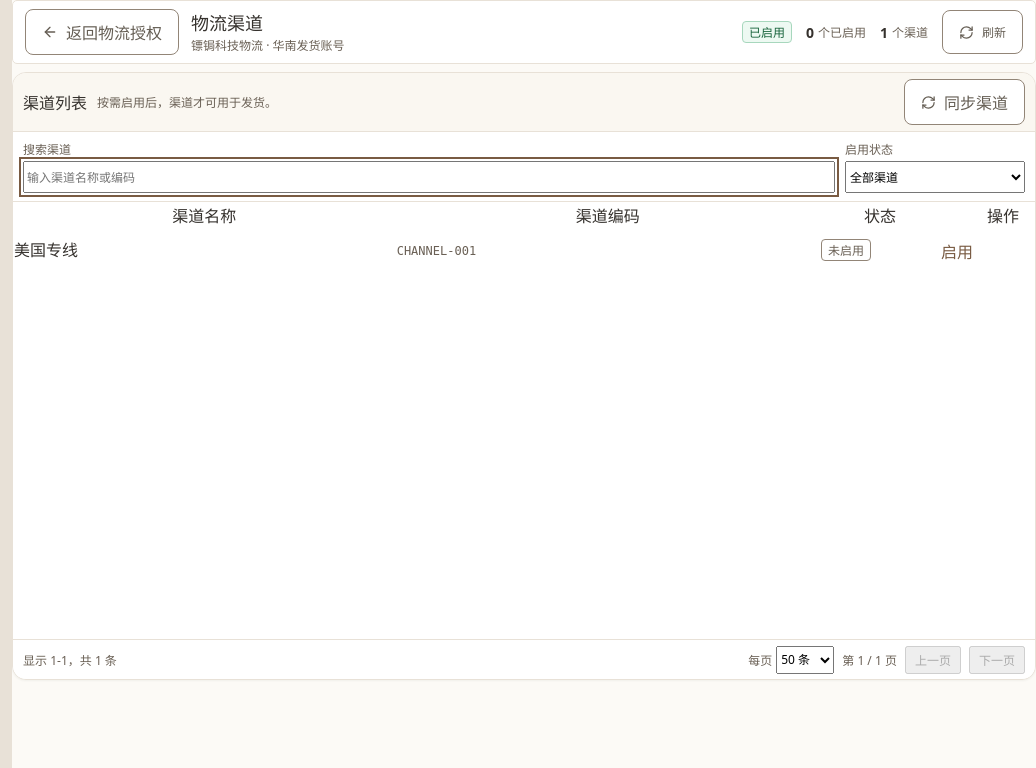
Test: logistics authorization channels workspace › renders as a dedicated page and enables a synced channel
Expected: the heading "物流渠道" is shown, [191, 10, 263, 34]
Click the button "启用".
click(957, 251)  # box [941, 233, 973, 269]
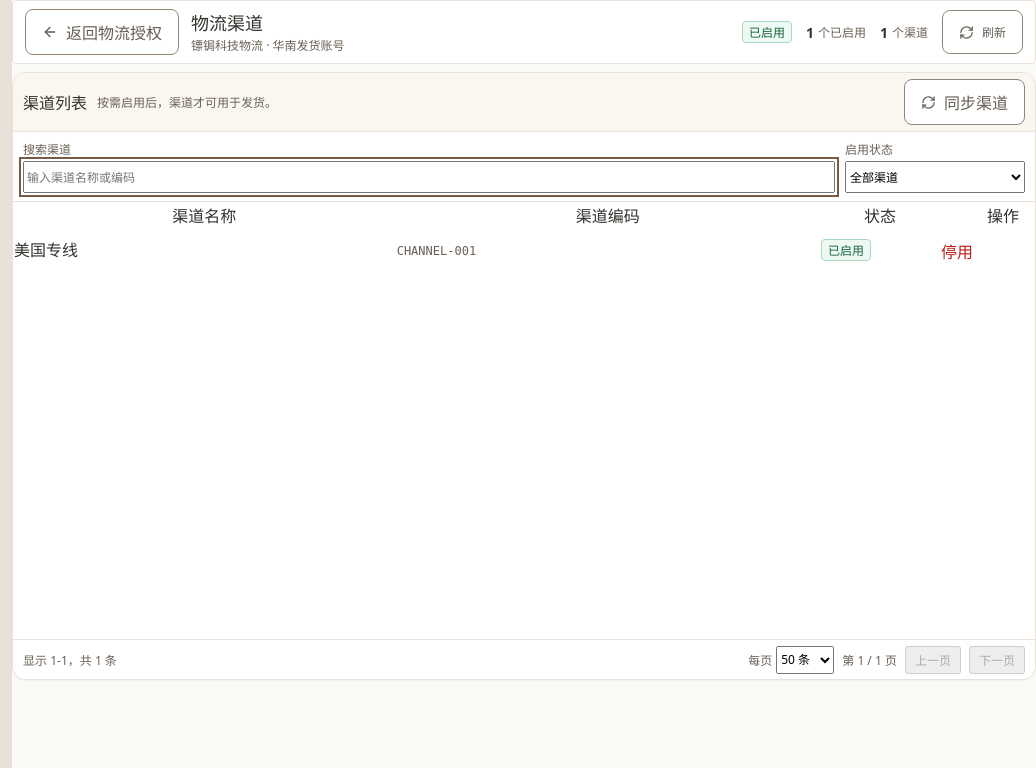
Result: the text "已启用" in the row of "美国专线" is shown at [828, 242, 864, 258]
